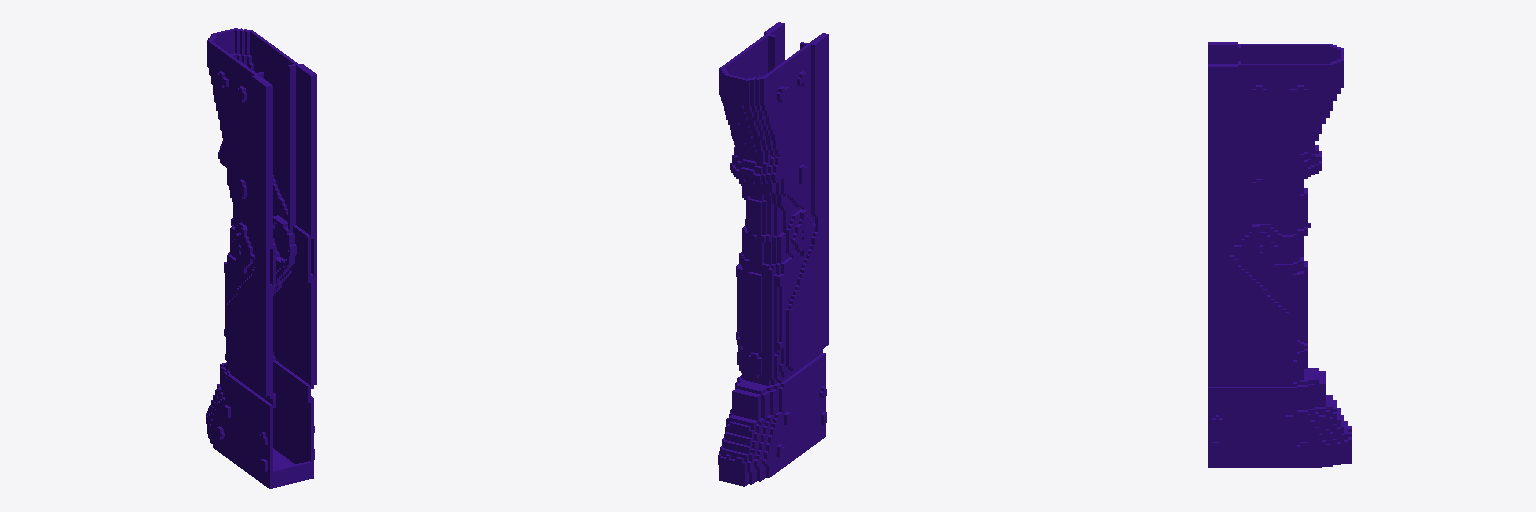
3 renders of one model, left to right at view 1: azimuth 30°, elevation 25°; view 2: azimuth 150°, elevation 25°; view 3: azimuth 270°, elevation 25°, orthographic.
Visible parts, largest first — view 1: object 1; view 2: object 1; view 3: object 1.
Boxes of the visible parts, x1,y1,x2,y2 form: object 1: [206, 28, 316, 488]; object 1: [718, 22, 828, 486]; object 1: [1208, 42, 1351, 467].
Bounding box in the file's own units: 1.6 × 12.1 × 3.9.
Materials: 1 (1 with a texture image).